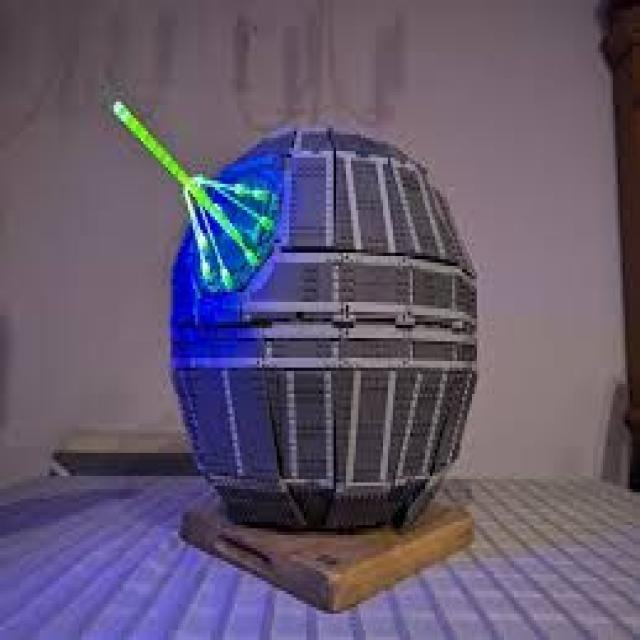death-stars: (171, 125, 477, 535)
